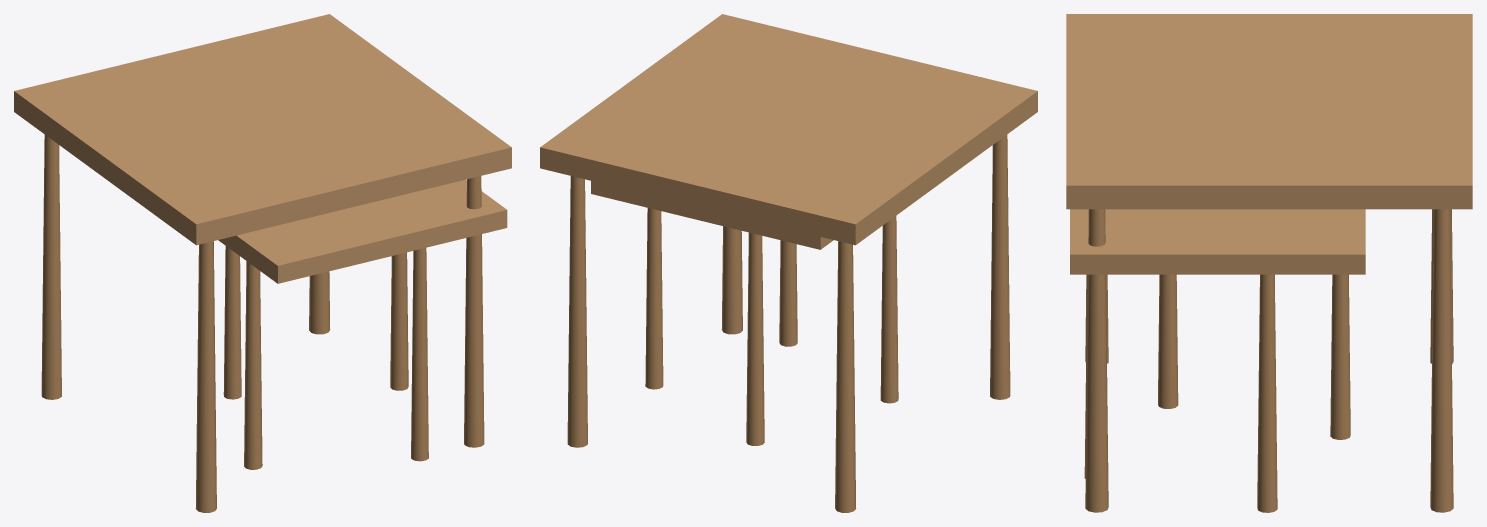
File: nestingtable-lite.glb
3 views of the same model, side by side, from view 1: azimuth 30°, elevation 25°; view 2: azimuth 150°, elevation 25°; view 3: azimuth 270°, elevation 25° (orthographic). The views are drawn at different scales.
Visible parts, largest first — view 1: material-0-top, material-1-leg; view 2: material-0-top, material-1-leg; view 3: material-0-top, material-1-leg.
Part boxes in pixels (left/top/right/bottom): material-0-top: left=14, top=14, right=511, bottom=283; material-1-leg: left=41, top=135, right=484, bottom=512; material-0-top: left=540, top=14, right=1037, bottom=249; material-1-leg: left=567, top=135, right=1010, bottom=512; material-0-top: left=1066, top=14, right=1472, bottom=274; material-1-leg: left=1084, top=209, right=1453, bottom=512.
Size of the model in its own units: 0.55 by 0.5 by 0.55.
